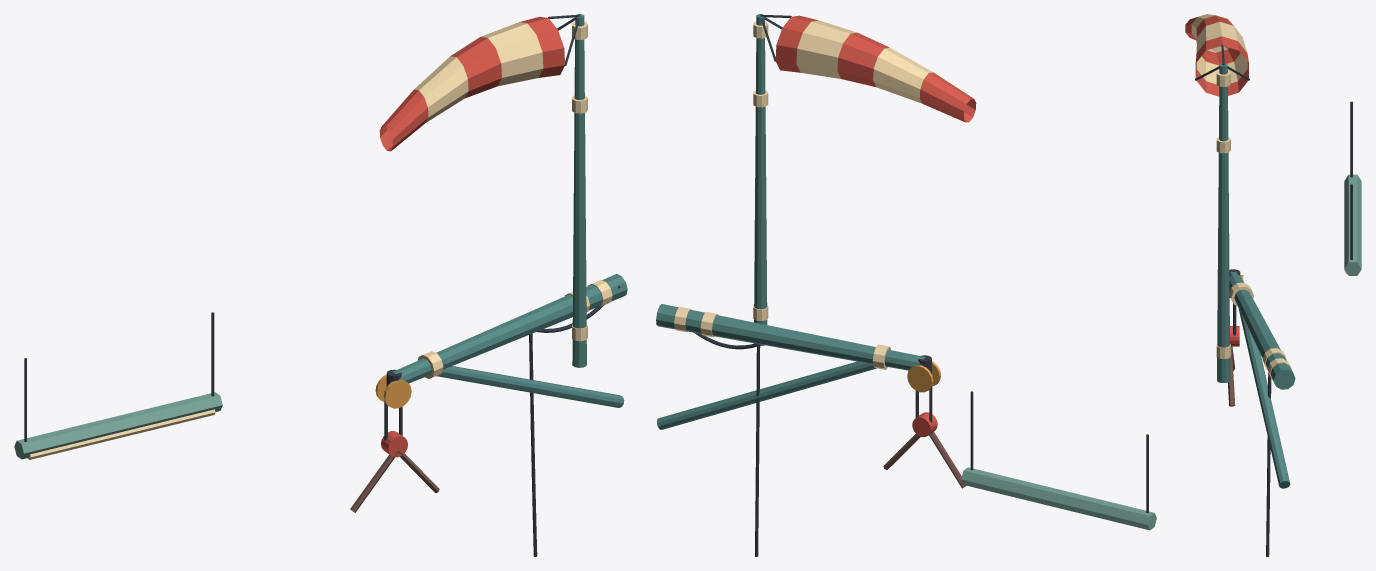
File: LiftingGear.gltf
The picture shows the model from 3 angles, left to right: view 1: azimuth 30°, elevation 25°; view 2: azimuth 150°, elevation 25°; view 3: azimuth 270°, elevation 25°; orthographic projection. The views are drawn at different scales.
Visible parts, largest first — view 1: Weather sleeve, Swivel crane, Inspection light, Anemometer mast, Fall line, Canvas sling, Block and tackle, Boom couplings; view 2: Weather sleeve, Swivel crane, Inspection light, Anemometer mast, Fall line, Boom couplings, Block and tackle, Canvas sling, Mast ferrules; view 3: Swivel crane, Weather sleeve, Anemometer mast, Inspection light, Mast ferrules, Boom couplings, Fall line, Lamp chains, Canvas sling.
Part boxes in pixels (x1,y1,x2,y2): Weather sleeve: [379, 16, 564, 151]; Swivel crane: [392, 274, 627, 407]; Inspection light: [14, 392, 222, 459]; Anemometer mast: [572, 14, 586, 367]; Fall line: [529, 285, 620, 556]; Canvas sling: [350, 450, 439, 512]; Block and tackle: [375, 374, 411, 408]; Boom couplings: [418, 280, 612, 378]; Weather sleeve: [775, 15, 976, 122]; Swivel crane: [656, 304, 925, 429]; Inspection light: [961, 467, 1156, 530]; Anemometer mast: [754, 14, 767, 345]; Fall line: [694, 332, 760, 556]; Boom couplings: [674, 307, 890, 369]; Block and tackle: [907, 361, 940, 392]; Canvas sling: [883, 432, 966, 488]; Mast ferrules: [753, 21, 768, 320]; Swivel crane: [1229, 271, 1295, 488]; Weather sleeve: [1185, 14, 1248, 96]; Anemometer mast: [1217, 63, 1230, 382]; Inspection light: [1344, 174, 1361, 275]; Mast ferrules: [1216, 70, 1230, 359]; Boom couplings: [1229, 282, 1291, 380]; Fall line: [1266, 372, 1273, 556]; Lamp chains: [1350, 101, 1352, 259]; Canvas sling: [1228, 346, 1235, 406].
Size of the model in its own units: 4.83 by 4.58 by 1.45.
